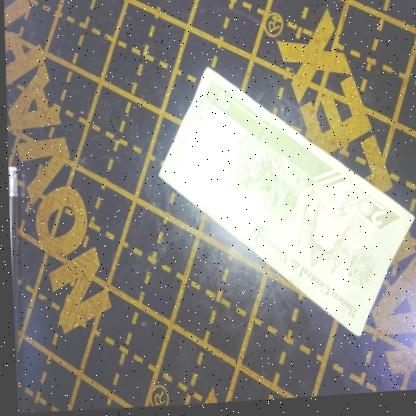vef_back: (149, 57, 416, 351)
